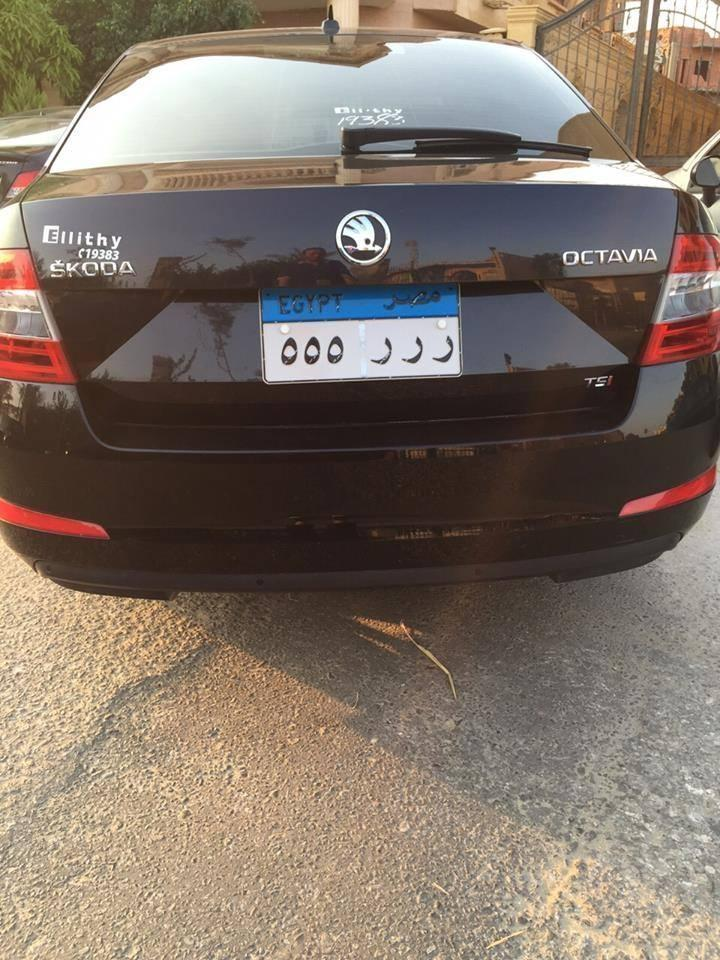5: (276, 331, 303, 371), (322, 334, 352, 368), (301, 330, 324, 371)
License Plate: (256, 278, 464, 388)
R: (367, 332, 396, 369), (401, 333, 425, 364), (432, 334, 456, 365)
car: (0, 30, 720, 602)
